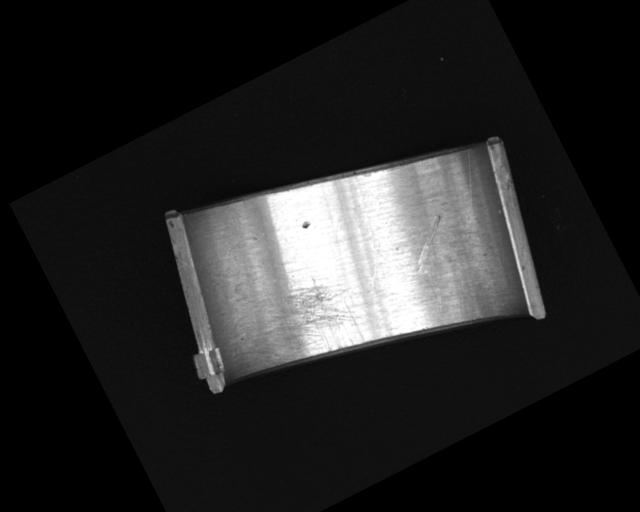bruise: (300, 219, 313, 231)
nick: (320, 173, 405, 288), (432, 146, 504, 237), (400, 213, 459, 270), (415, 264, 449, 316)
scratch: (240, 262, 375, 385)
